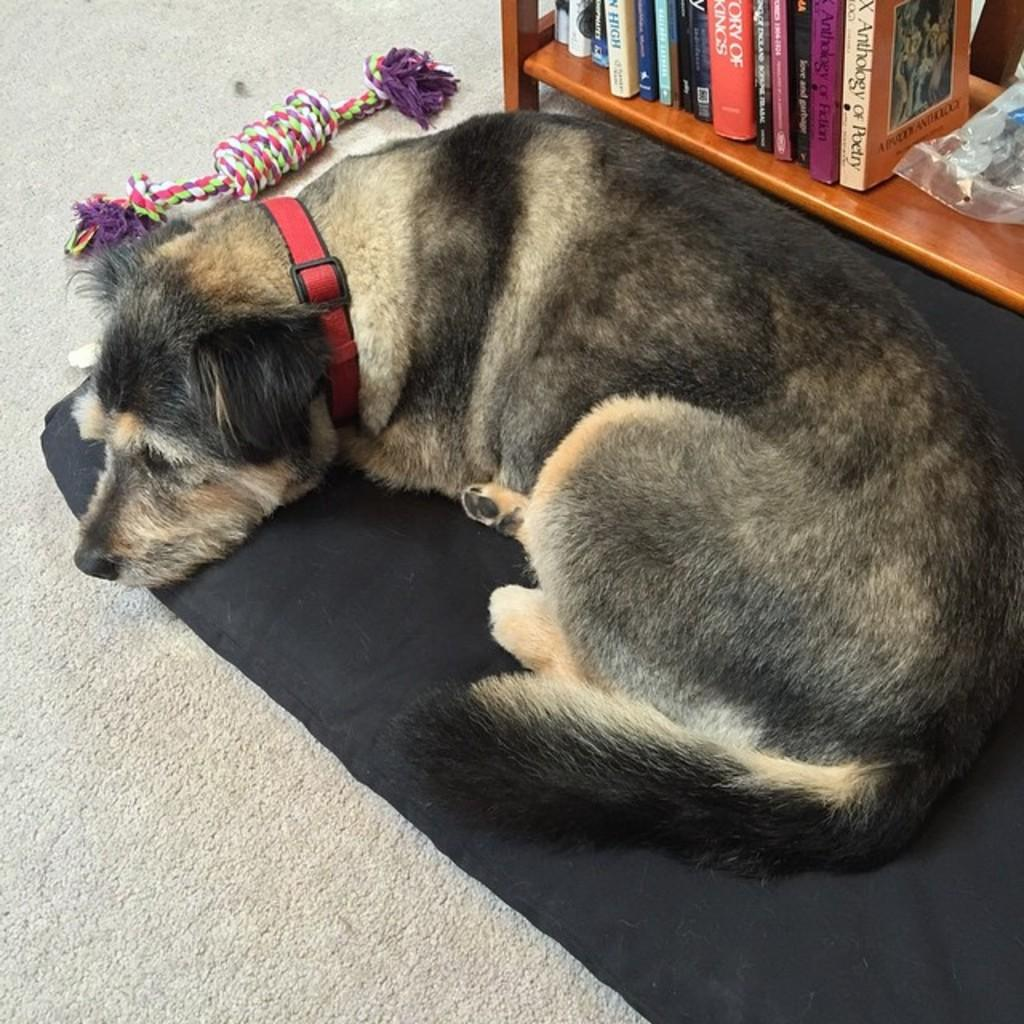Book: (544, 0, 982, 192)
